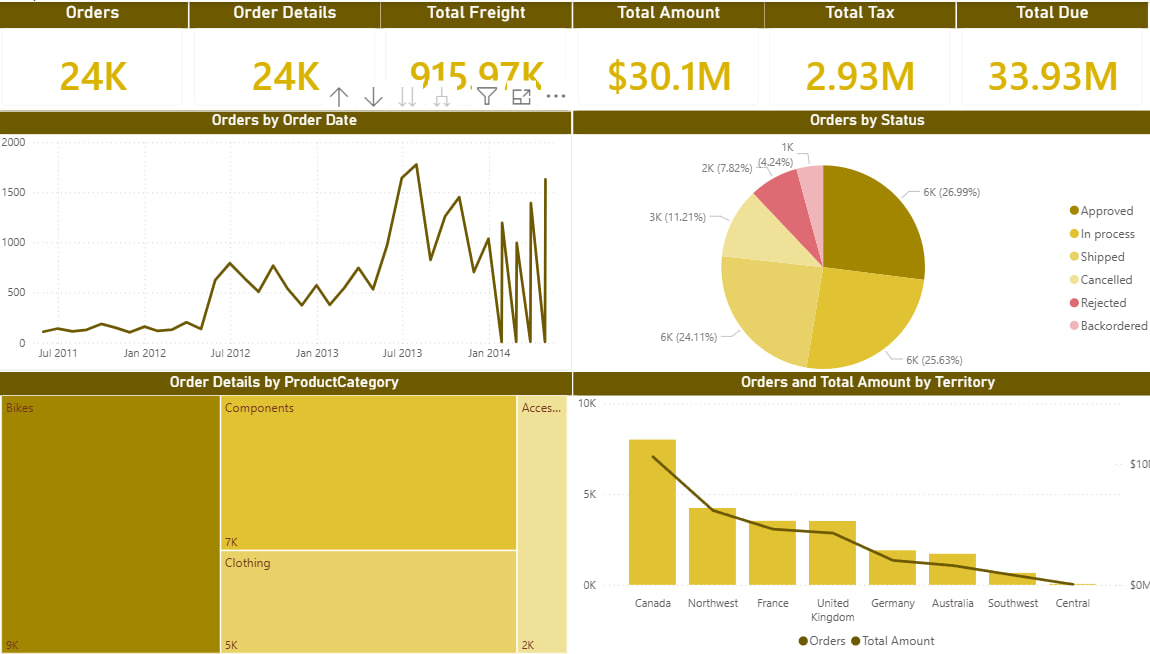

This screenshot's page, from the dashboard's own definition file:
{"tool":"powerbi","page":{"name":"Salse","canvas":[1280,720],"ordinal":0},"visuals":[{"type":"cardVisual","title":"Order Details","fields":{"Data":["DAX Measures.Order Details"]},"box":[210.8,0,209.9,119.4],"z":0},{"type":"cardVisual","title":"Orders","fields":{"Data":["DAX Measures.Orders"]},"box":[0,0,209.9,119.4],"z":1000},{"type":"cardVisual","title":"Total Amount","fields":{"Data":["DAX Measures.Total Amount"]},"box":[632.3,0,209.9,119.4],"z":2000},{"type":"cardVisual","title":"Total Due","fields":{"Data":["DAX Measures.Total Due"]},"box":[1053.9,0,209.9,119.4],"z":3000},{"type":"cardVisual","title":"Total Freight","fields":{"Data":["DAX Measures.Total Freight"]},"box":[421.5,0,209.9,119.4],"z":4000},{"type":"cardVisual","title":"Total Tax","fields":{"Data":["DAX Measures.Total Tax"]},"box":[843.1,0,209.9,119.4],"z":5000},{"type":"lineChart","title":"Orders by Order Date","fields":{"Y":["DAX Measures.Orders"],"Category":["Sales.OrderDate.Variation.Date Hierarchy.Year","Sales.OrderDate.Variation.Date Hierarchy.Quarter","Sales.OrderDate.Variation.Date Hierarchy.Month","Sales.OrderDate.Variation.Date Hierarchy.Day"]},"box":[0,119.5,631.3,284.7],"z":6000},{"type":"treemap","fields":{"Group":["Sales.Product Hierarchy.ProductCategory","Sales.Product Hierarchy.Product","Sales.Product Hierarchy.ProductSubCategory"],"Values":["DAX Measures.Order Details"]},"box":[0,405.6,631.3,314.2],"z":7000},{"type":"pieChart","fields":{"Y":["DAX Measures.Orders"],"Category":["Sales.Status"]},"box":[632.8,119.5,646,323],"z":8000},{"type":"lineStackedColumnComboChart","fields":{"Y":["DAX Measures.Orders"],"Category":["Sales.Territory"],"Y2":["DAX Measures.Total Amount"]},"box":[632.8,405.6,647.5,314.2],"z":9000}]}

Visuals, with their boxes on the page's 1280x720 design canvas (x1, y1, x2, y2). These are canvas units, not pixel positions in the 1150x654 screenshot, which may show the page scaled, cropped or inside an application window:
"Order Details" cardVisual: x1=211, y1=0, x2=421, y2=119
"Orders" cardVisual: x1=0, y1=0, x2=210, y2=119
"Total Amount" cardVisual: x1=632, y1=0, x2=842, y2=119
"Total Due" cardVisual: x1=1054, y1=0, x2=1264, y2=119
"Total Freight" cardVisual: x1=422, y1=0, x2=631, y2=119
"Total Tax" cardVisual: x1=843, y1=0, x2=1053, y2=119
"Orders by Order Date" lineChart: x1=0, y1=120, x2=631, y2=404
treemap - Sales.Product Hierarchy.ProductCategory x Sales.Product Hierarchy.Product: x1=0, y1=406, x2=631, y2=720
pieChart - DAX Measures.Orders x Sales.Status: x1=633, y1=120, x2=1279, y2=442
lineStackedColumnComboChart - DAX Measures.Orders x Sales.Territory: x1=633, y1=406, x2=1280, y2=720
